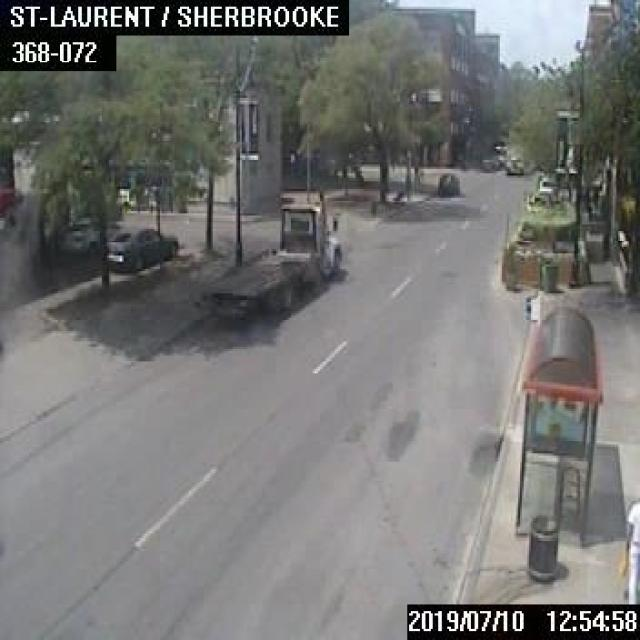pedestrian: (622, 498, 638, 598)
vehicle: (200, 184, 345, 314), (104, 226, 177, 271), (60, 215, 124, 256), (436, 169, 458, 195), (504, 143, 522, 173)
